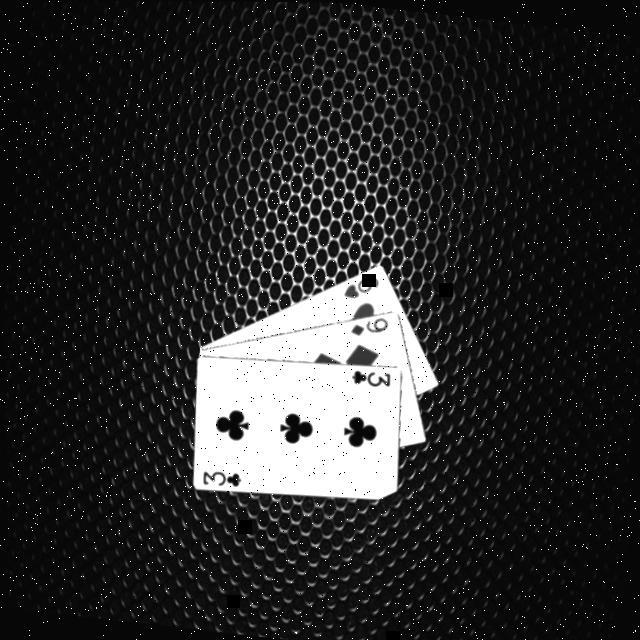3C: (345, 364, 391, 389), (196, 465, 242, 490)
6H: (337, 267, 380, 301)
9D: (345, 309, 389, 339)
